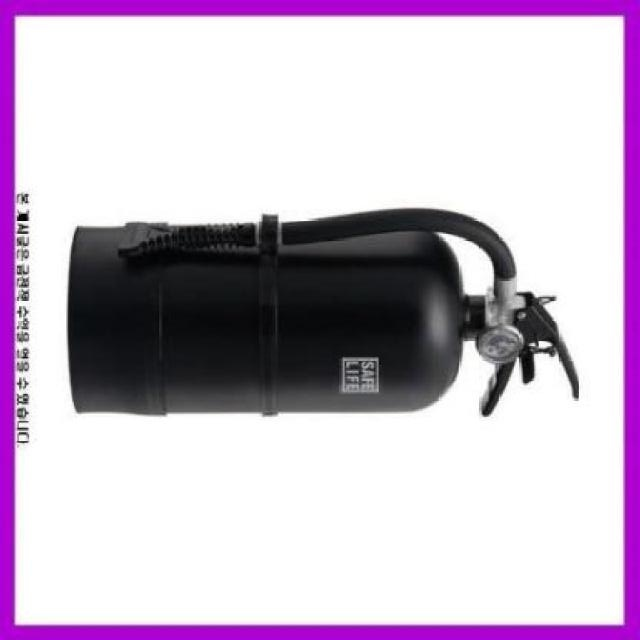fire extinguisher: (67, 206, 582, 419)
